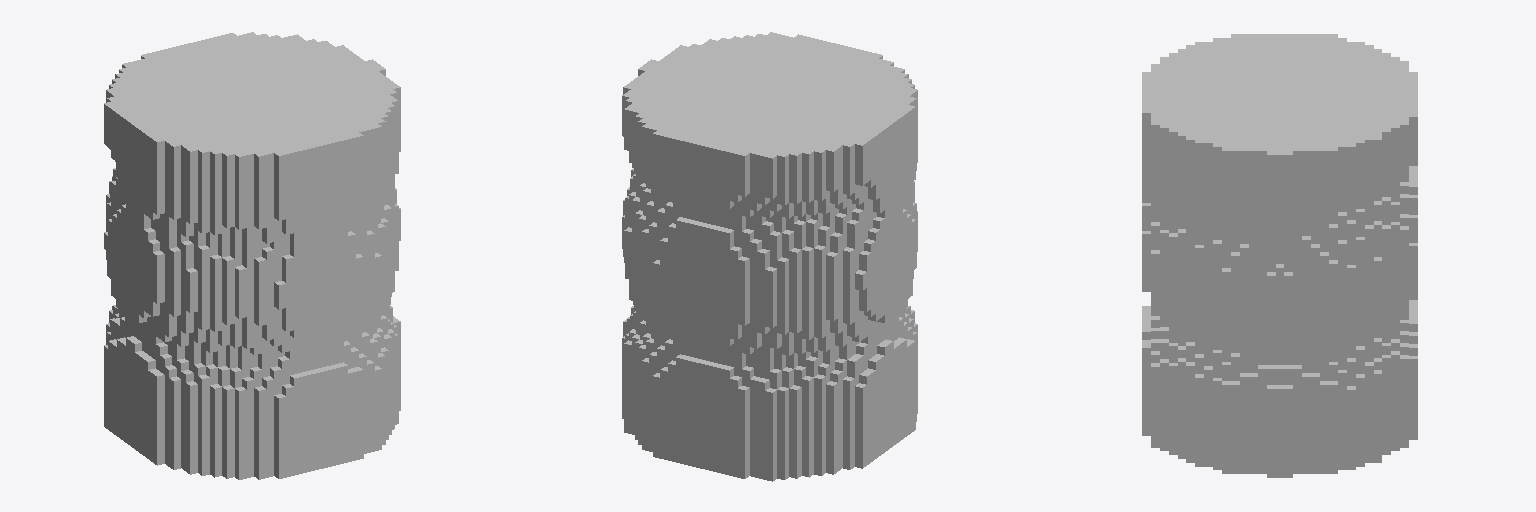
The model's file is dereva brevno.obj.
The picture shows the model from 3 angles: view 1: azimuth 30°, elevation 25°; view 2: azimuth 150°, elevation 25°; view 3: azimuth 270°, elevation 25°; orthographic projection.
Size of the model in its own units: 32 by 40 by 31.